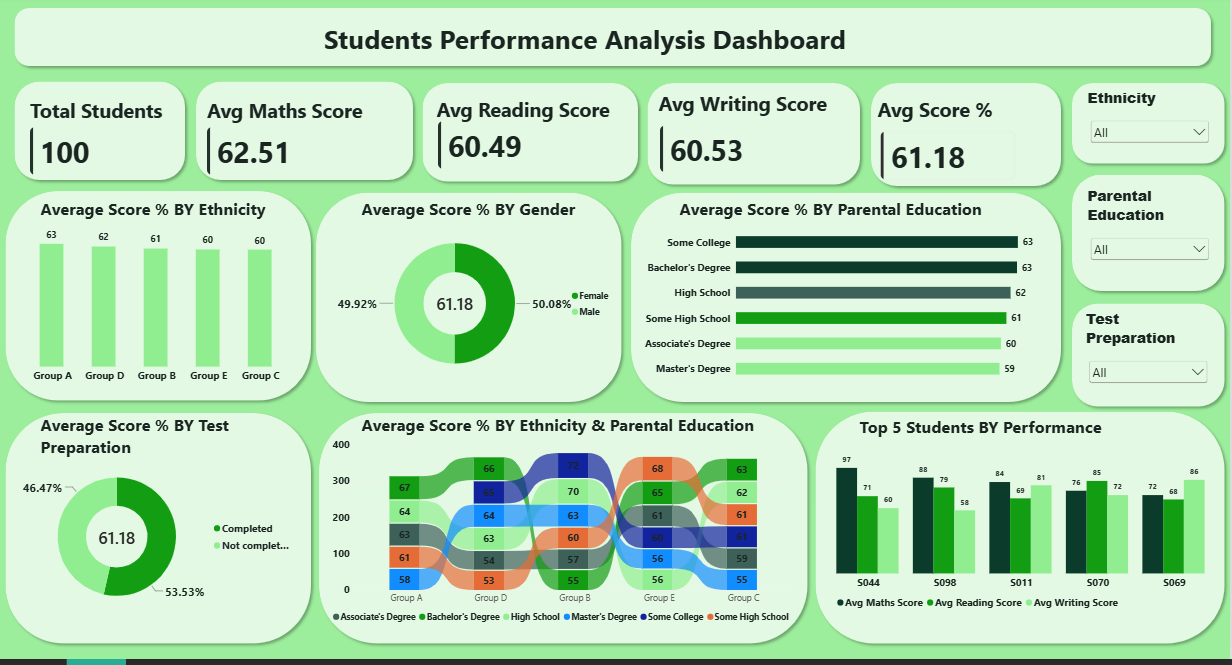

The page's visual inventory and layout, read from the dashboard file:
{"tool":"powerbi","page":{"name":"Page 1","canvas":[2000,1080],"ordinal":0},"visuals":[{"type":"shape","box":[14.6,12.2,1964.1,112.2],"z":0},{"type":"shape","box":[14.6,131.8,295.2,178.1],"z":0,"group":"g1"},{"type":"shape","box":[678.3,134.2,368.4,178.1],"z":5,"group":"g3"},{"type":"shape","box":[1044.2,134.2,363.5,183],"z":6,"group":"g2"},{"type":"cardVisual","fields":{"Data":["All Mersures.avg writing"]},"box":[1074,211.7,168.3,76],"z":16,"group":"g2"},{"type":"textbox","box":[1071.5,154.2,300.1,46.4],"z":1000,"group":"g2"},{"type":"cardVisual","fields":{"Data":["All Mersures.Total Students"]},"box":[49.2,214.5,168.3,78.1],"z":1000,"group":"g1"},{"type":"cardVisual","fields":{"Data":["All Mersures.Avg reading"]},"box":[711.8,205,210.1,78.1],"z":1001,"group":"g3"},{"type":"textbox","box":[527,41.5,863.7,65.9],"z":2000},{"type":"textbox","box":[49.2,165.7,222,48.8],"z":2000,"group":"g1"},{"type":"shape","box":[309.9,131.8,370.9,178.1],"z":3000},{"type":"shape","box":[1407.8,134.2,326.9,185.4],"z":4000},{"type":"shape","box":[0,309.9,514.8,358.7],"z":5000},{"type":"shape","box":[0,670.9,514.8,392.8],"z":6000},{"type":"shape","box":[505,312.3,514.8,358.7],"z":7000},{"type":"shape","box":[1017.4,312.3,717.3,358.7],"z":8000},{"type":"shape","box":[509.9,670.9,812.5,392.8],"z":9000},{"type":"shape","box":[1317.5,668.5,683.1,395.3],"z":10000},{"type":"cardVisual","fields":{"Data":["All Mersures.Avg maths"]},"box":[336.7,214.7,168.3,78.1],"z":11000},{"type":"group","id":"g1","title":"Group 1","box":[14.6,131.8,295.2,178.1],"z":12000},{"type":"textbox","box":[336.7,165.9,263.5,51.2],"z":13000},{"type":"textbox","box":[1427.3,163.5,278.1,48.8],"z":14000},{"type":"group","id":"g2","title":"Group 2","box":[1044.2,134.2,363.5,183],"z":15000},{"type":"group","id":"g3","title":"Group 3","box":[678.3,134.2,368.4,178.1],"z":16000},{"type":"textbox","box":[710,163.5,314.7,51.2],"z":17000},{"type":"cardVisual","fields":{"Data":["All Mersures.Avg score percent"]},"box":[1432.2,222,219.6,78.1],"z":18000},{"type":"clusteredColumnChart","title":"Average Score BY Ethnicity","fields":{"Category":["Sheet1.Ethnicity"],"Y":["All Mersures.Avg score percent"]},"box":[14.6,353.8,480.6,297.7],"z":19000},{"type":"textbox","box":[65.9,329.4,383.1,46.4],"z":20000},{"type":"donutChart","title":"Average Score BY Ethnicity","fields":{"Y":["All Mersures.Avg score percent"],"Category":["Sheet1.Gender"]},"box":[534.3,353.8,480.6,297.7],"z":21000},{"type":"textbox","box":[588,329.4,383.1,46.4],"z":22000},{"type":"barChart","title":"Average Score BY Ethnicity","fields":{"Y":["All Mersures.Avg score percent"],"Category":["Sheet1.Parental Education"]},"box":[1032,353.8,688,297.7],"z":23000},{"type":"textbox","box":[1105.2,329.4,539.2,36.6],"z":24000},{"type":"donutChart","title":"Average Score BY Ethnicity","fields":{"Y":["All Mersures.Avg score percent"],"Category":["Sheet1.Test Preparation"]},"box":[17.1,722.2,480.6,319.6],"z":25000},{"type":"textbox","box":[65.9,680.7,383.1,80.5],"z":26000},{"type":"ribbonChart","title":"Average Score BY Ethnicity","fields":{"Y":["All Mersures.Avg score percent"],"Category":["Sheet1.Ethnicity"],"Series":["Sheet1.Parental Education"]},"box":[524.6,705.1,783.2,336.7],"z":27000},{"type":"textbox","box":[588,680.7,658.8,46.4],"z":28000},{"type":"clusteredColumnChart","title":"Average Score BY Ethnicity","fields":{"Category":["Sheet1.Student ID"],"Y":["All Mersures.Avg maths","All Mersures.Avg reading","All Mersures.avg writing"]},"box":[1344.3,722.2,634.4,297.7],"z":29000},{"type":"textbox","box":[1398,683.1,407.4,46.4],"z":30000},{"type":"shape","box":[1734.7,134.2,265.9,148.8],"z":30001},{"type":"shape","box":[1734.7,283,265.9,207.4],"z":30002},{"type":"shape","box":[1734.7,492.8,265.9,185.4],"z":30004},{"type":"slicer","title":"Ethnicity","fields":{"Values":["Sheet1.Ethnicity"]},"box":[1768.9,151.3,202.5,109.8],"z":30005},{"type":"slicer","title":"Parental Education","fields":{"Values":["Sheet1.Parental Education"]},"box":[1768.9,309.9,202.5,141.5],"z":30006},{"type":"slicer","title":"Test Preparation ","fields":{"Values":["Sheet1.Test Preparation"]},"box":[1766.4,509.9,202.5,148.8],"z":30007}]}

Visuals, with their boxes in screenshot pixels (x1, y1, x2, y2), scaled from the page's 2000x1080 canvas onto the 1232x665 screenshot:
shape: (9,8,1219,77)
shape: (9,81,191,191)
shape: (418,83,645,192)
shape: (643,83,867,195)
cardVisual - All Mersures.avg writing: (662,130,765,177)
textbox: (660,95,845,124)
cardVisual - All Mersures.Total Students: (30,132,134,180)
cardVisual - All Mersures.Avg reading: (438,126,568,174)
textbox: (325,26,857,66)
textbox: (30,102,167,132)
shape: (191,81,419,191)
shape: (867,83,1069,197)
shape: (0,191,317,412)
shape: (0,413,317,655)
shape: (311,192,628,413)
shape: (627,192,1069,413)
shape: (314,413,815,655)
shape: (812,412,1231,655)
cardVisual - All Mersures.Avg maths: (207,132,311,180)
"Group 1" group: (9,81,191,191)
textbox: (207,102,370,134)
textbox: (879,101,1051,131)
"Group 2" group: (643,83,867,195)
"Group 3" group: (418,83,645,192)
textbox: (437,101,631,132)
cardVisual - All Mersures.Avg score percent: (882,137,1018,185)
"Average Score BY Ethnicity" clusteredColumnChart: (9,218,305,401)
textbox: (41,203,277,231)
"Average Score BY Ethnicity" donutChart: (329,218,625,401)
textbox: (362,203,598,231)
"Average Score BY Ethnicity" barChart: (636,218,1060,401)
textbox: (681,203,1013,225)
"Average Score BY Ethnicity" donutChart: (11,445,307,641)
textbox: (41,419,277,469)
"Average Score BY Ethnicity" ribbonChart: (323,434,806,641)
textbox: (362,419,768,448)
"Average Score BY Ethnicity" clusteredColumnChart: (828,445,1219,628)
textbox: (861,421,1112,449)
shape: (1069,83,1231,174)
shape: (1069,174,1231,302)
shape: (1069,303,1231,418)
"Ethnicity" slicer: (1090,93,1214,161)
"Parental Education" slicer: (1090,191,1214,278)
"Test Preparation " slicer: (1088,314,1213,406)
